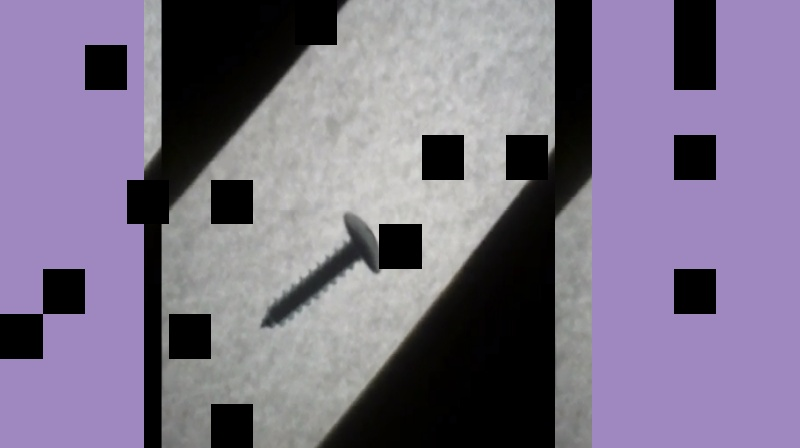S003: (256, 208, 383, 333)
